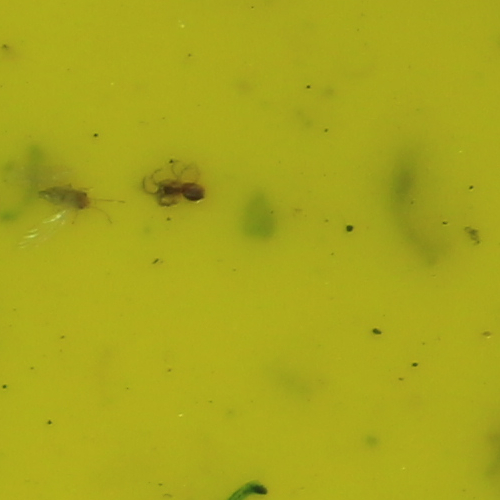psylla: (38, 181, 93, 213)
